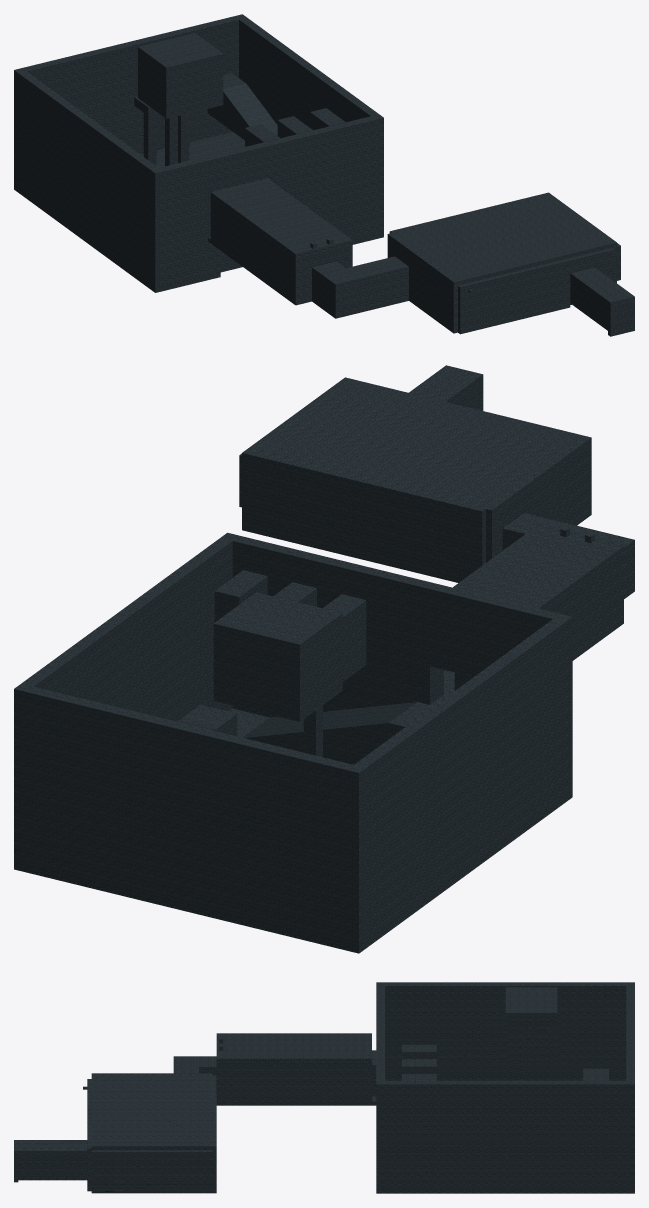
File: test_level_base.obj
3 views of the same model, one above another, from view 1: azimuth 30°, elevation 25°; view 2: azimuth 150°, elevation 25°; view 3: azimuth 270°, elevation 25° (orthographic). The views are drawn at different scales.
Parts seen in each view (by area): view 1: entity0_brush78, entity0_brush9, entity0_brush79, entity0_brush71, entity0_brush70, entity0_brush69, entity0_brush66, entity0_brush49, entity0_brush2, entity0_brush21, entity0_brush30, entity0_brush6 (+19 smaller); view 2: entity0_brush79, entity0_brush78, entity0_brush9, entity0_brush70, entity0_brush38, entity0_brush66, entity0_brush71, entity0_brush49, entity0_brush75, entity0_brush30, entity0_brush69, entity0_brush21 (+10 smaller); view 3: entity0_brush70, entity0_brush78, entity0_brush9, entity0_brush25, entity0_brush49, entity0_brush66, entity0_brush83, entity0_brush4, entity0_brush1, entity0_brush82, entity0_brush79, entity0_brush38 (+7 smaller).
Boxes of the visible parts, left/top/right/bottom form: entity0_brush78: left=18, top=71, right=163, bottom=292; entity0_brush9: left=392, top=194, right=616, bottom=285; entity0_brush79: left=14, top=16, right=238, bottom=192; entity0_brush71: left=249, top=116, right=375, bottom=244; entity0_brush70: left=235, top=14, right=383, bottom=238; entity0_brush69: left=159, top=154, right=220, bottom=290; entity0_brush66: left=138, top=33, right=223, bottom=118; entity0_brush49: left=213, top=180, right=349, bottom=256; entity0_brush2: left=458, top=273, right=570, bottom=334; entity0_brush21: left=213, top=198, right=293, bottom=303; entity0_brush30: left=409, top=248, right=457, bottom=333; entity0_brush6: left=458, top=248, right=615, bottom=299; entity0_brush79: left=26, top=686, right=366, bottom=953; entity0_brush78: left=354, top=614, right=572, bottom=947; entity0_brush9: left=246, top=377, right=584, bottom=508; entity0_brush70: left=14, top=532, right=239, bottom=872; entity0_brush38: left=242, top=450, right=485, bottom=582; entity0_brush66: left=213, top=592, right=342, bottom=721; entity0_brush71: left=232, top=536, right=424, bottom=717; entity0_brush49: left=453, top=527, right=620, bottom=609; entity0_brush75: left=242, top=702, right=416, bottom=764; entity0_brush30: left=518, top=436, right=591, bottom=525; entity0_brush69: left=467, top=593, right=559, bottom=681; entity0_brush21: left=545, top=555, right=620, bottom=660; entity0_brush70: left=376, top=1080, right=634, bottom=1193; entity0_brush78: left=376, top=982, right=626, bottom=1080; entity0_brush9: left=91, top=1075, right=212, bottom=1150; entity0_brush25: left=221, top=1062, right=367, bottom=1105; entity0_brush49: left=221, top=1033, right=367, bottom=1062; entity0_brush66: left=505, top=987, right=557, bottom=1059; entity0_brush83: left=91, top=1150, right=212, bottom=1175; entity0_brush4: left=18, top=1149, right=87, bottom=1178; entity0_brush1: left=91, top=1183, right=212, bottom=1193; entity0_brush82: left=91, top=1175, right=212, bottom=1183; entity0_brush79: left=626, top=982, right=634, bottom=1080; entity0_brush38: left=212, top=1075, right=216, bottom=1193.
Bounding box in the file's own units: 1216 × 576 × 2304.
3 materials, 3 textured.
